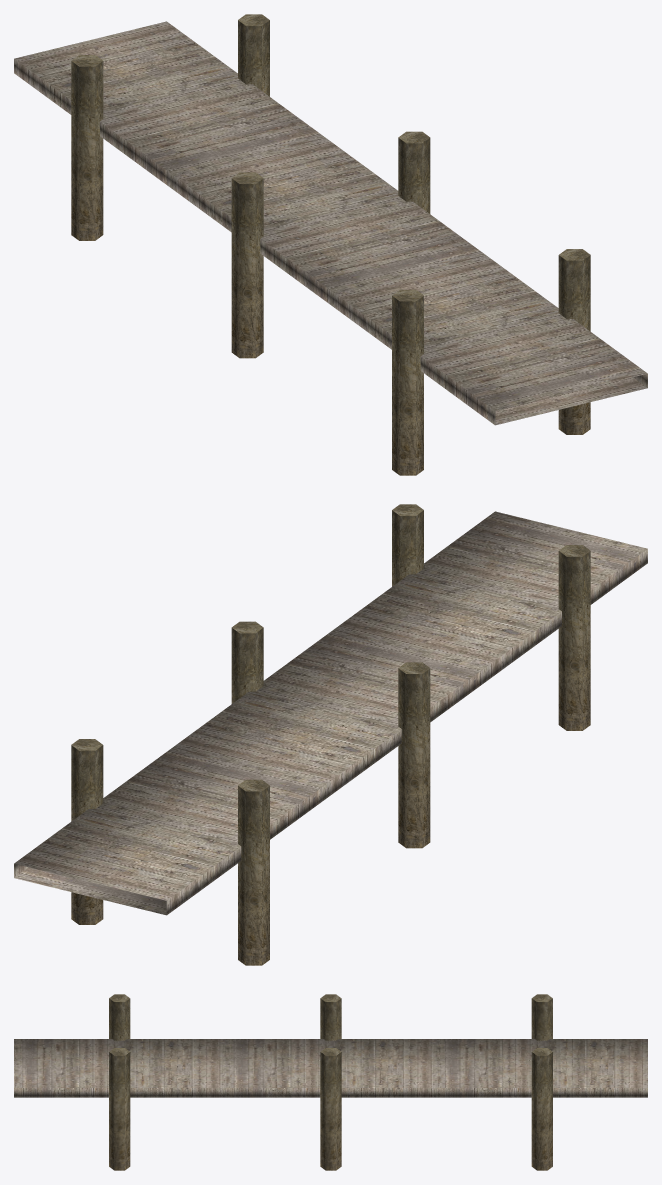
Rendered from Bridge_I-Tile.fbx.
3 views of the same model, one above another, from view 1: azimuth 30°, elevation 25°; view 2: azimuth 150°, elevation 25°; view 3: azimuth 270°, elevation 25° (orthographic). The views are drawn at different scales.
Visible parts, largest first — view 1: Bridge.I-Tile; view 2: Bridge.I-Tile; view 3: Bridge.I-Tile.
Part boxes in pixels (bbox=[...]): Bridge.I-Tile: bbox=[14, 14, 647, 475]; Bridge.I-Tile: bbox=[14, 504, 647, 965]; Bridge.I-Tile: bbox=[14, 994, 647, 1170].
Size of the model in its own units: 68.66 by 59.95 by 300.
